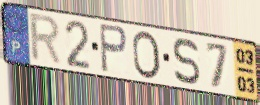2: (63, 18, 92, 71)
7: (205, 41, 231, 91)
O: (131, 29, 163, 81)
P: (98, 22, 129, 76)
R: (29, 12, 64, 69)
S: (172, 37, 202, 87)
